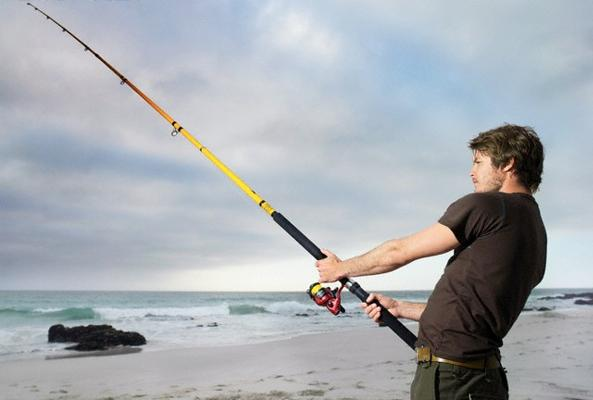person: (315, 125, 549, 400)
